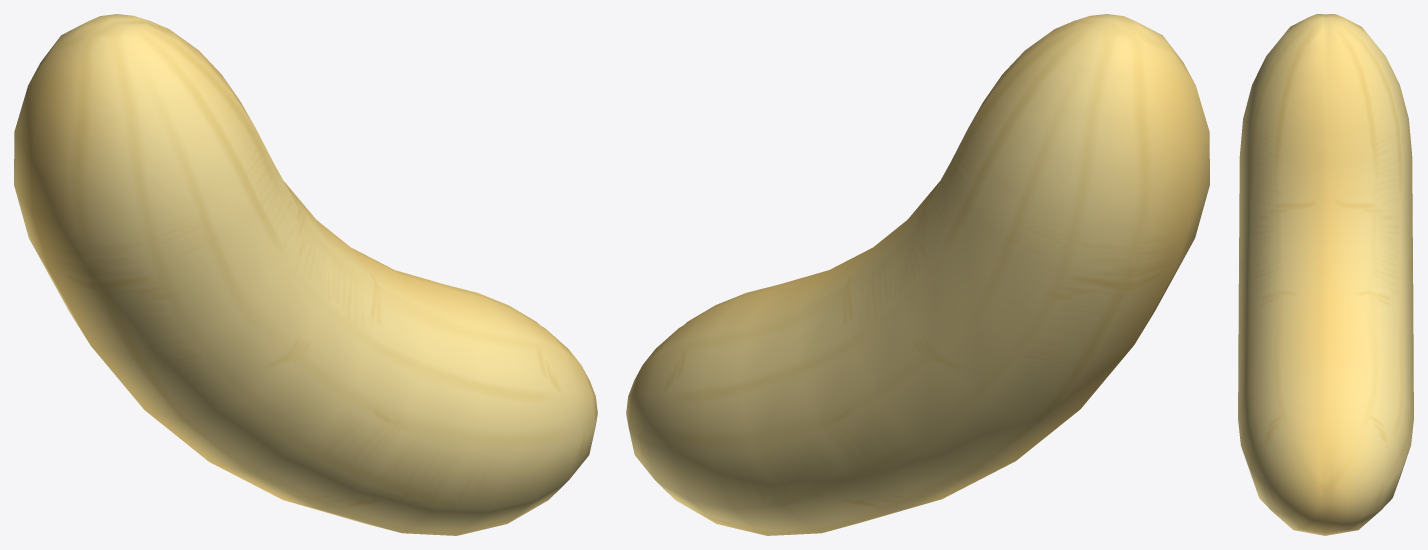
The model's file is banana_t.fbx.
3 renders of one model, left to right at view 1: azimuth 30°, elevation 25°; view 2: azimuth 150°, elevation 25°; view 3: azimuth 270°, elevation 25°, orthographic. The views are drawn at different scales.
Parts seen in each view (by area): view 1: Capsule002; view 2: Capsule002; view 3: Capsule002.
Part boxes in pixels (x1,y1,x2,y2): Capsule002: (14,14,597,535); Capsule002: (626,14,1209,535); Capsule002: (1238,14,1413,535).
Bounding box in the file's own units: 30.01 × 30.01 × 12.23.
Materials: 1 (1 with a texture image).
